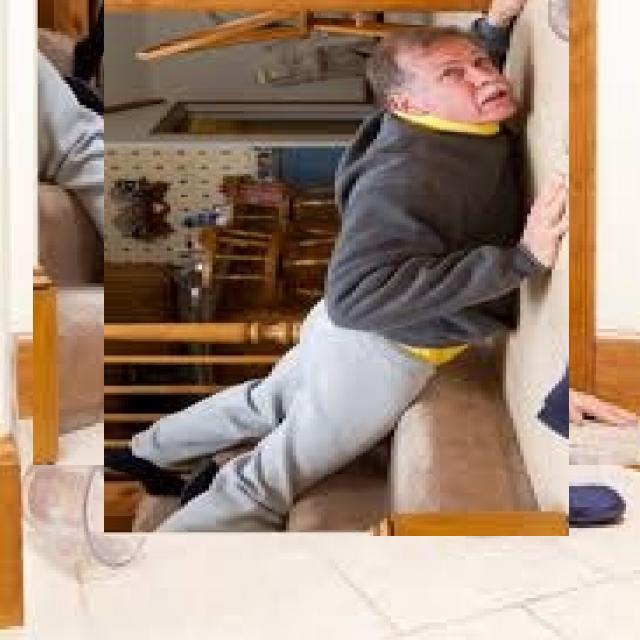Fall: (102, 0, 586, 533)
